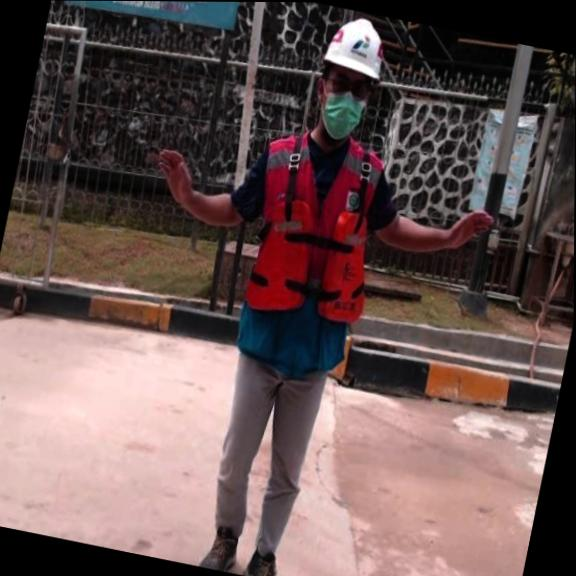safety_vest: (236, 187, 386, 334)
